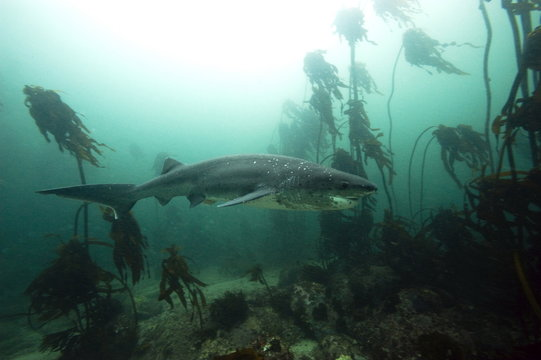Sevengill Shark: (19, 146, 398, 261)
